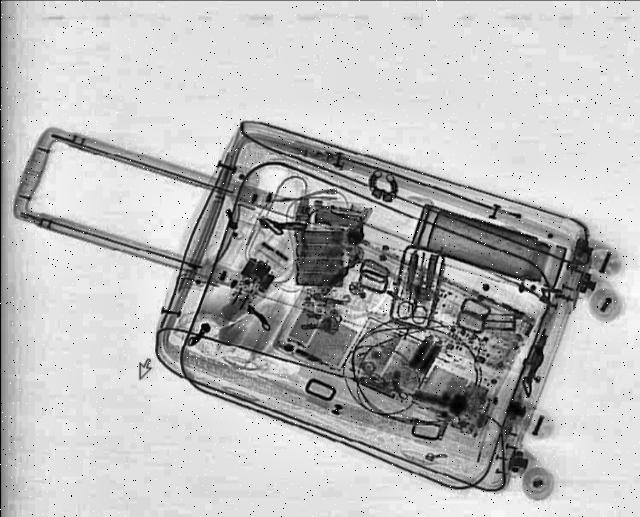Scissors: (392, 253, 438, 325)
